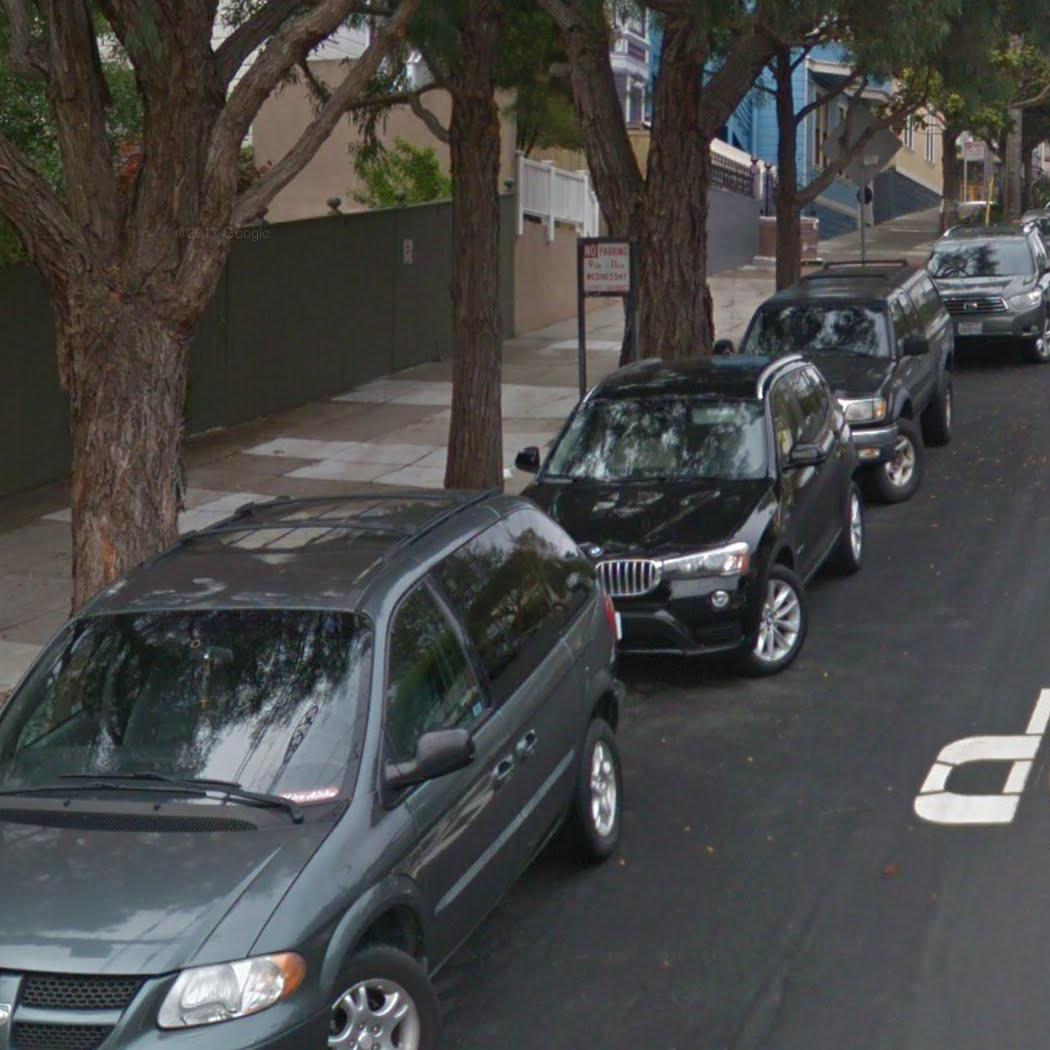No Parking: (580, 238, 633, 295)
